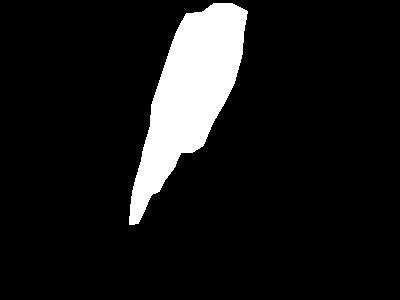Fire: (128, 1, 248, 227)
